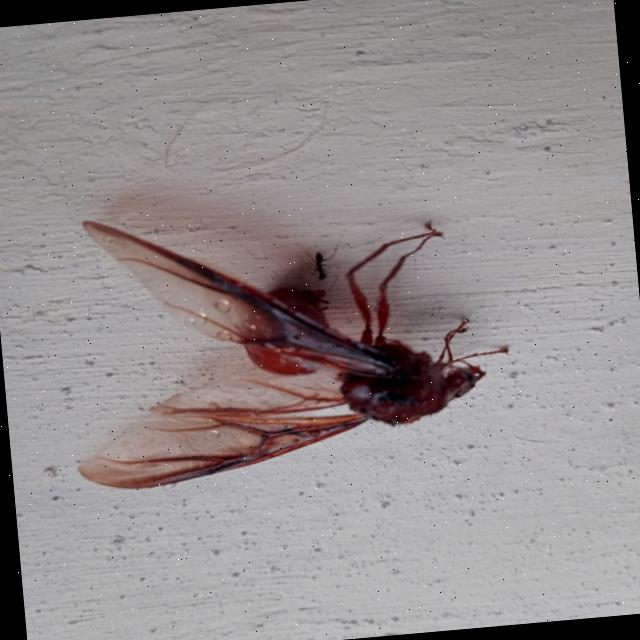Dead-Male-Alate: (55, 184, 519, 495)
